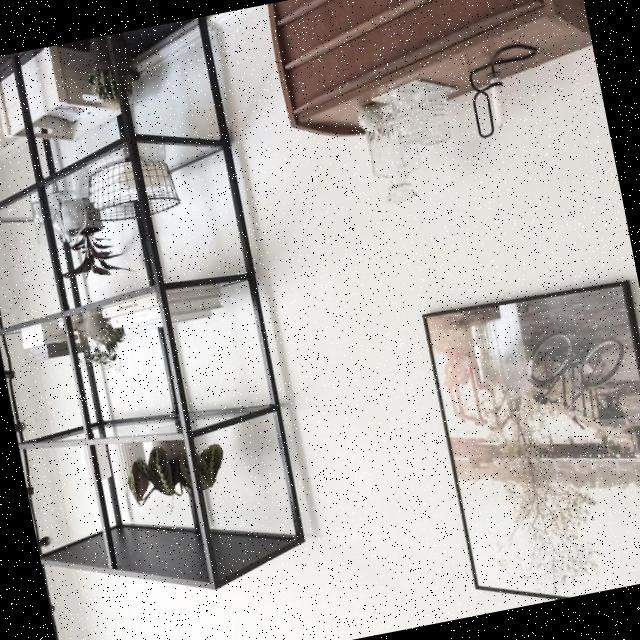Shelf: (0, 15, 324, 625)
